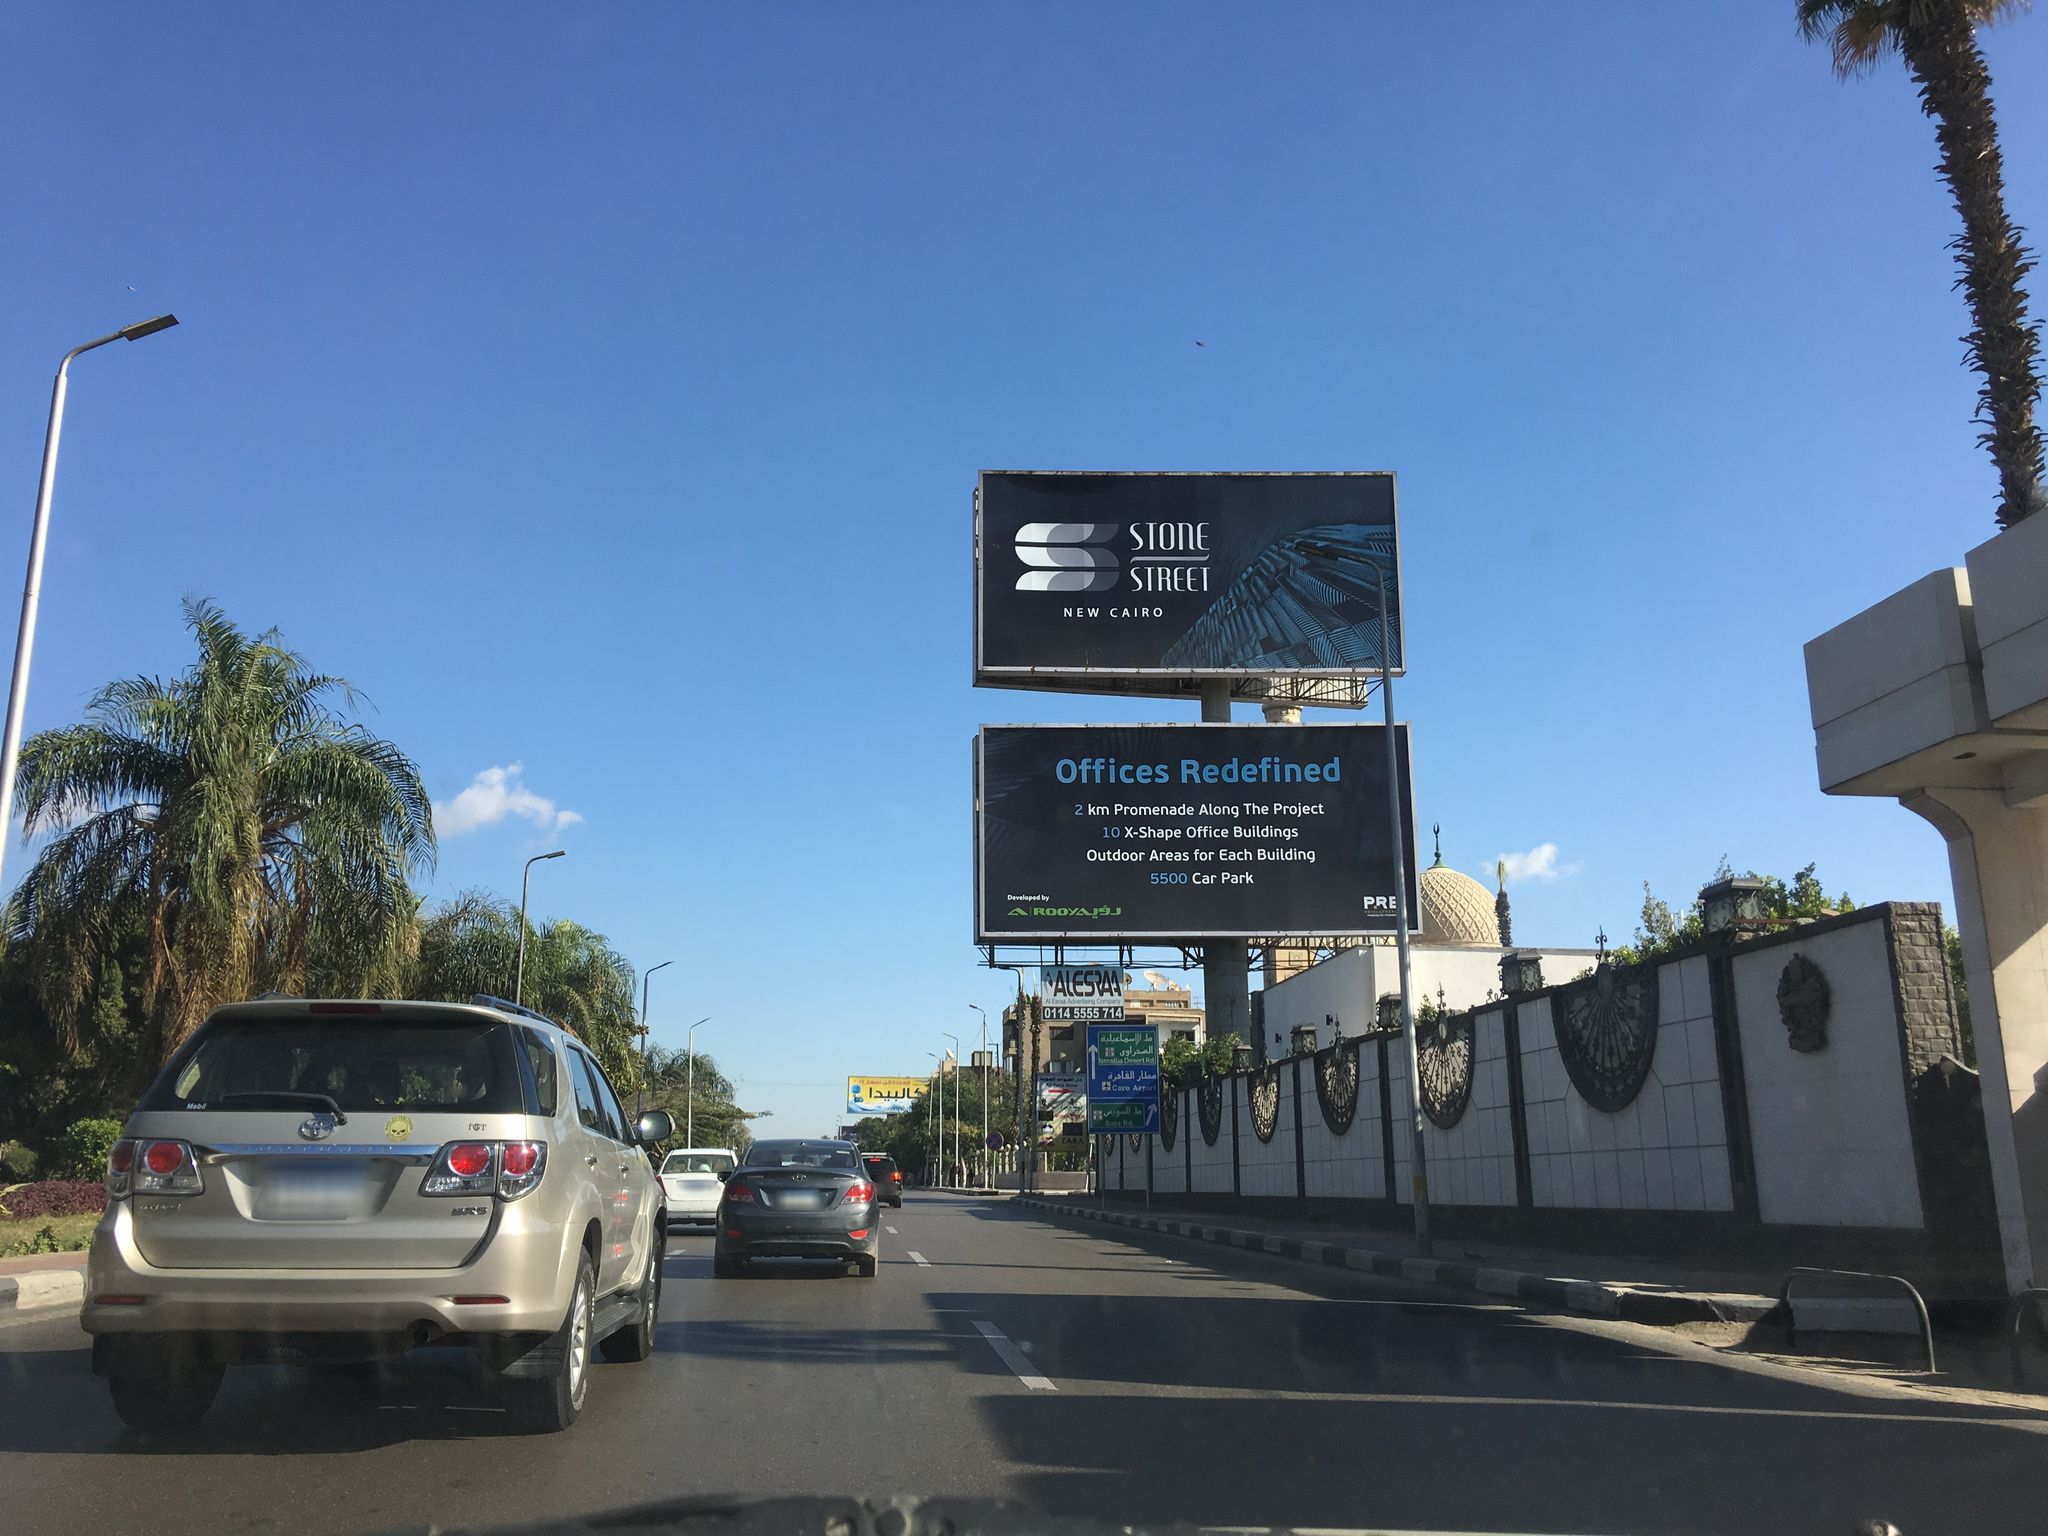car: (77, 986, 672, 1439), (714, 1137, 880, 1279), (655, 1147, 739, 1234), (860, 1150, 903, 1208)
